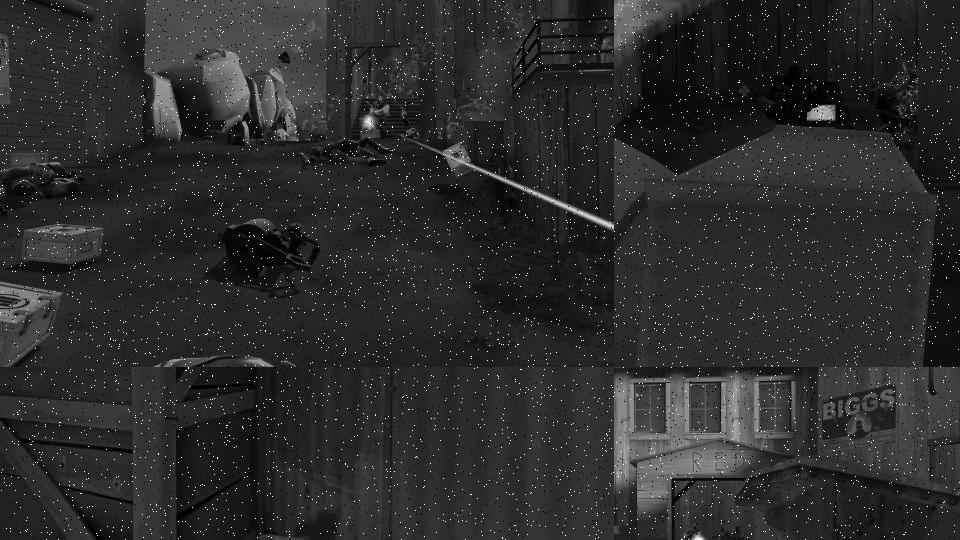Enemy: (753, 65, 825, 129), (0, 162, 85, 202), (867, 75, 909, 140), (311, 138, 392, 166), (369, 96, 389, 137), (680, 522, 701, 540), (712, 527, 735, 540), (730, 526, 743, 540)
